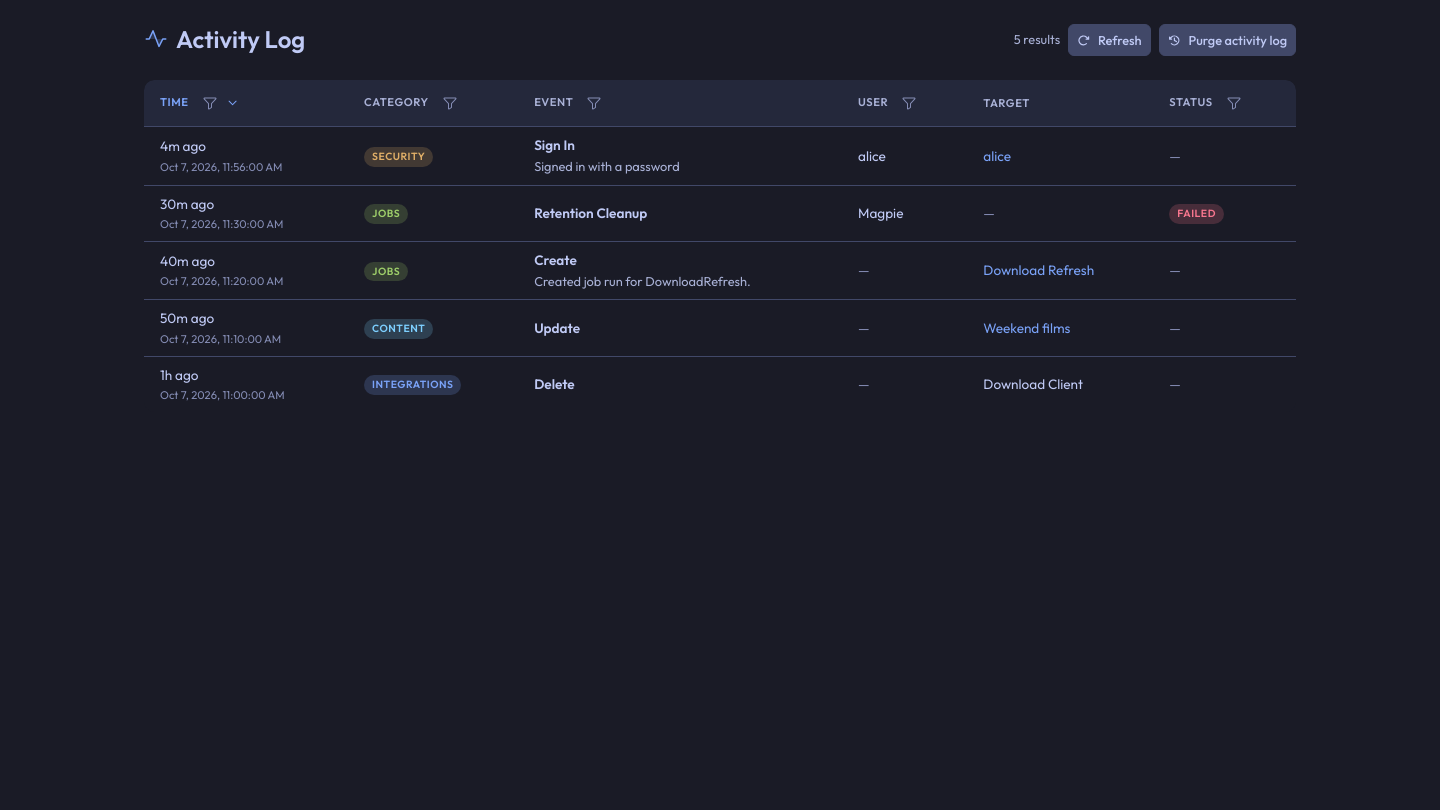
ActivityLogPage › WritesTheCategoryToTheUrl_WhenACategoryIsChosen
The image size is (1440, 810).
What coordinates should you click on to do the following:
click the button named "Filter by Category"
I would click on:
 (450, 103)
Its box is x1=437 y1=90 x2=463 y2=116.
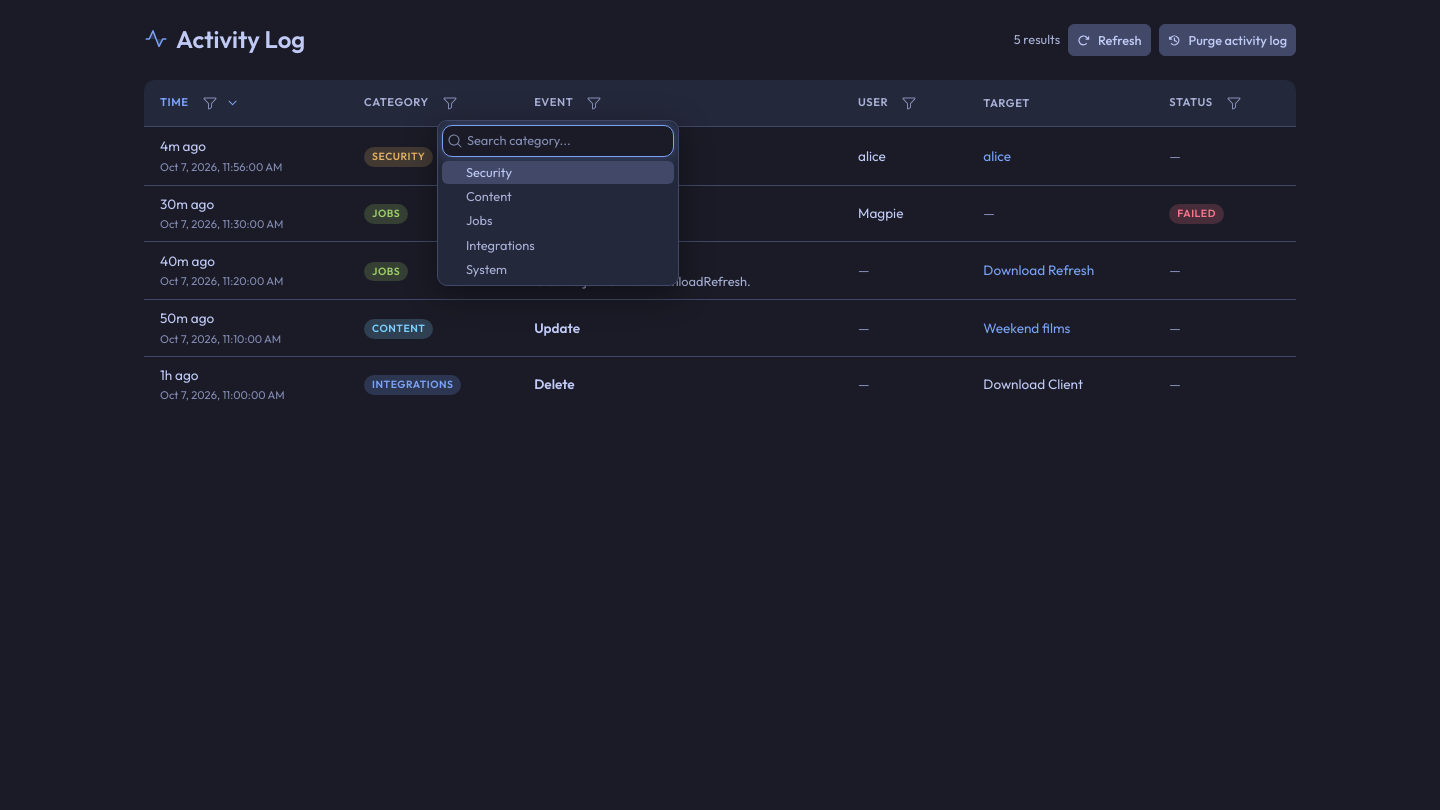
What coordinates should you click on to do the following:
click the option "Security"
I would click on:
 (558, 173)
Its box is x1=442 y1=161 x2=674 y2=184.
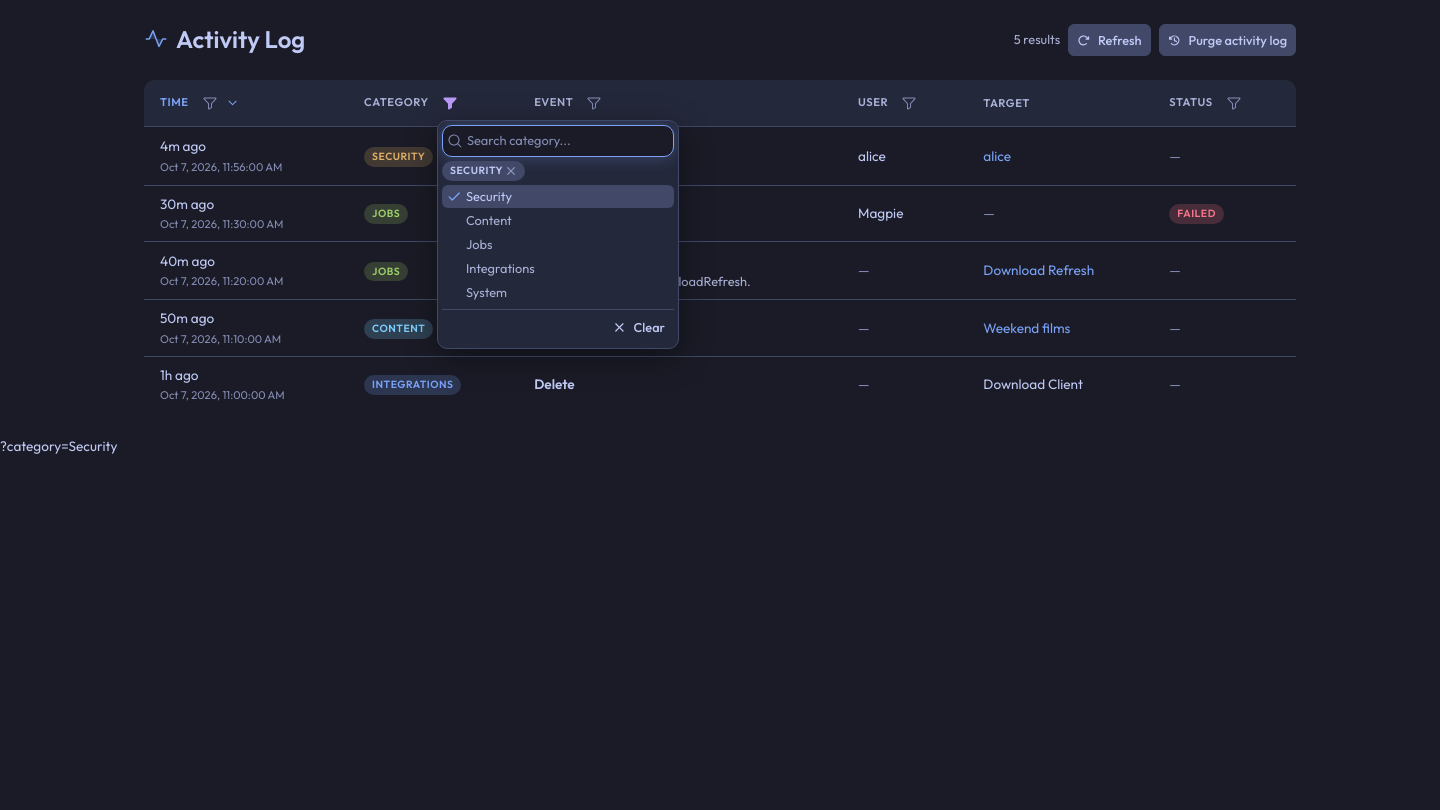
What coordinates should you click on to do the following:
click the option "System"
I would click on:
 (486, 292)
Its box is x1=466 y1=284 x2=507 y2=300.
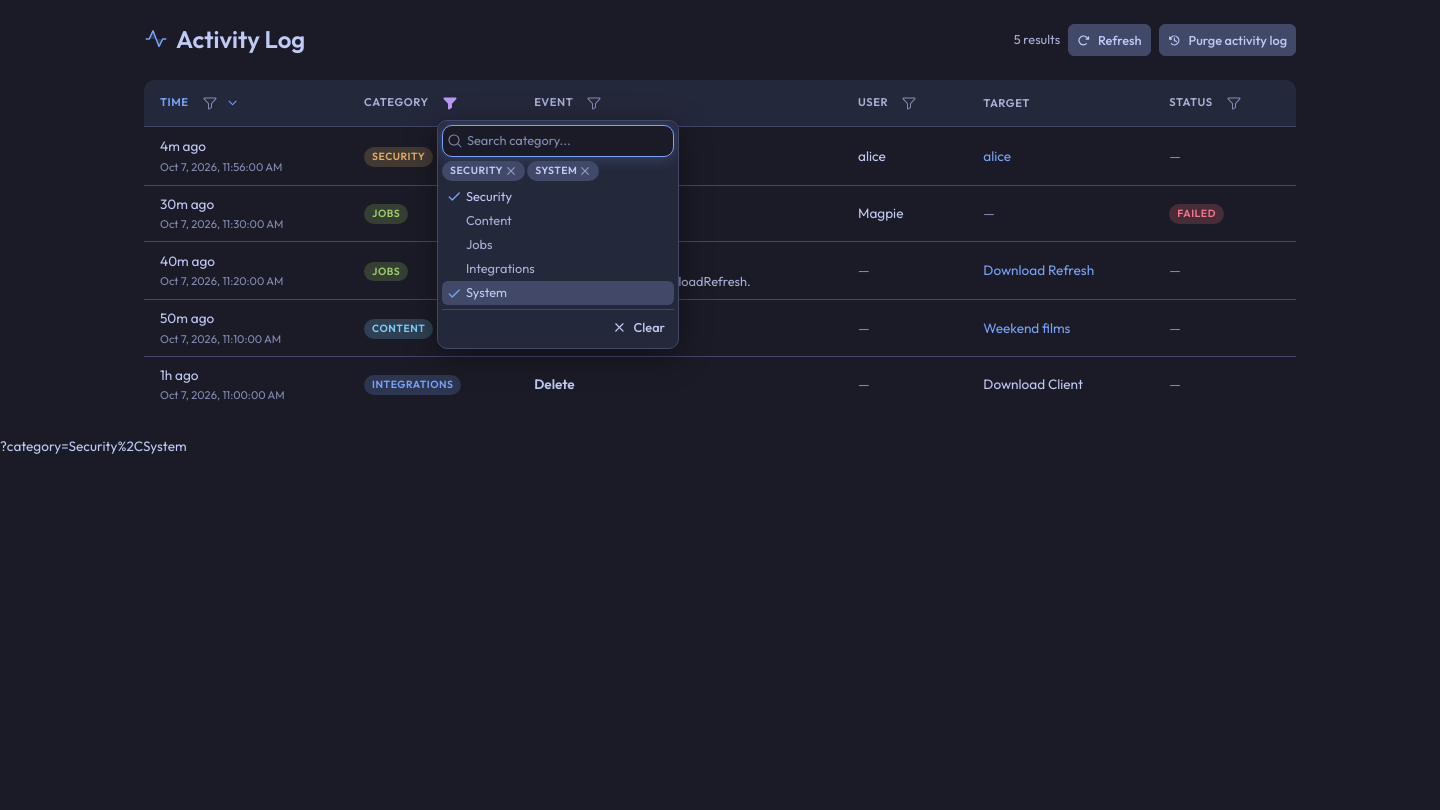
expect the text with test id "activity-log-page__location-search" reads "?category=Security%2CSystem": met, box x1=0 y1=437 x2=186 y2=455
